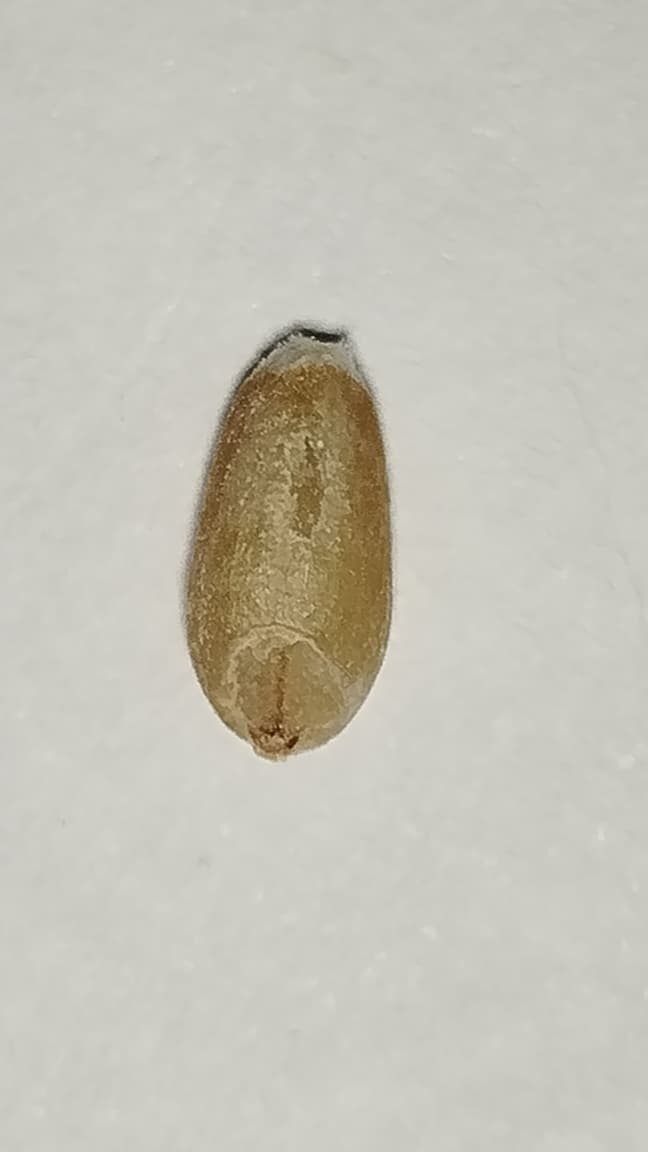damage: (183, 320, 400, 763)
insectdamage: (220, 621, 360, 763)
